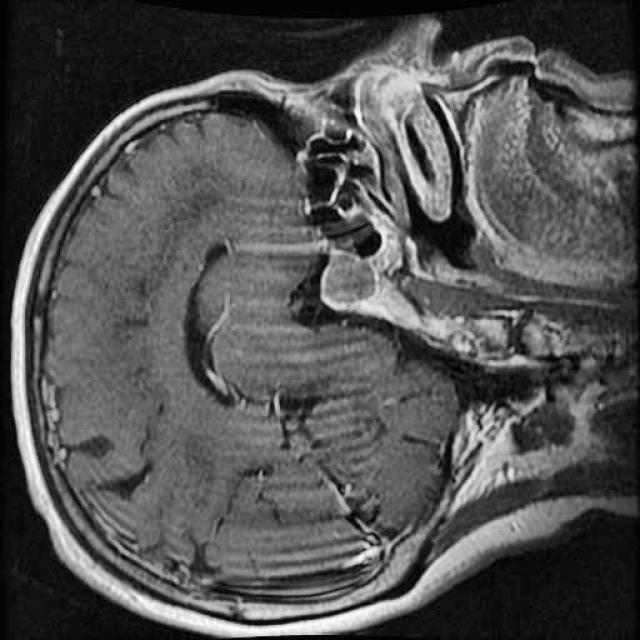Tumor: (298, 239, 399, 316)
